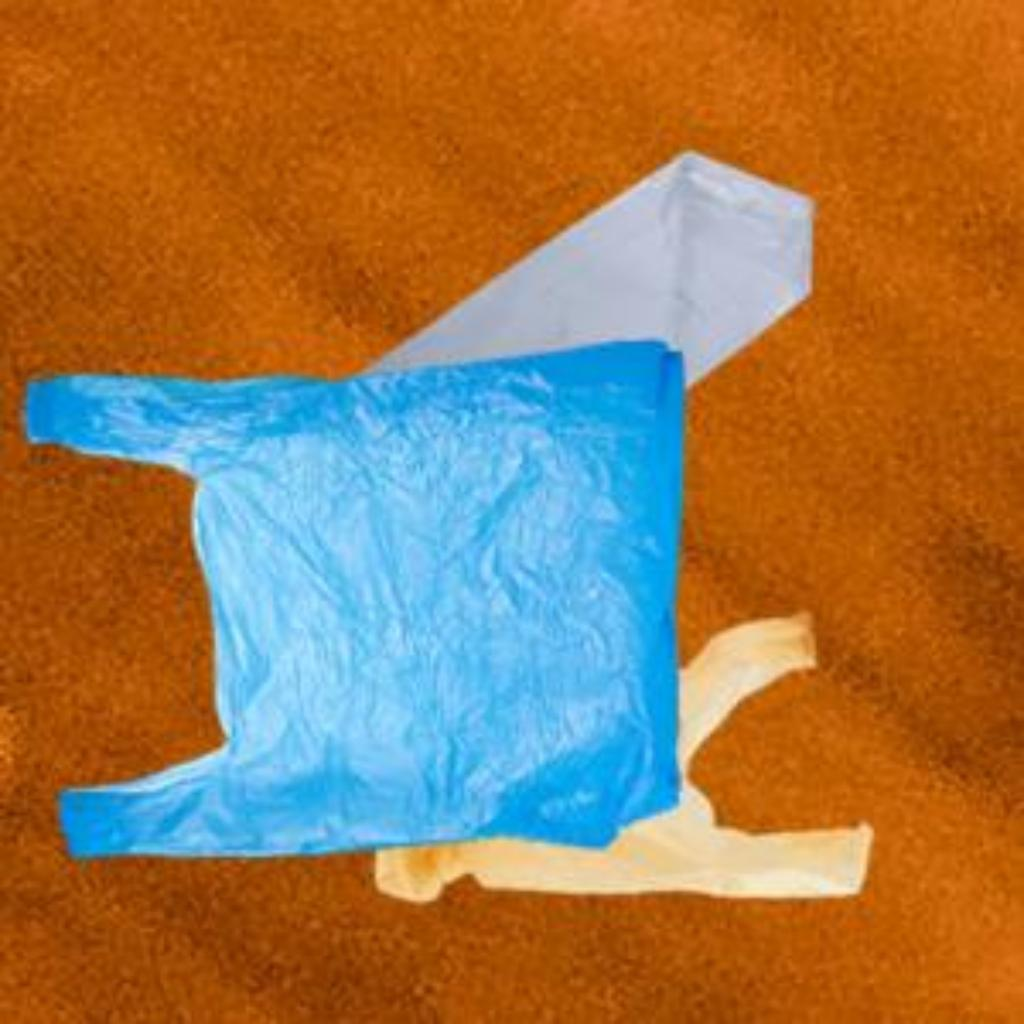garbage: (7, 350, 710, 886), (377, 608, 934, 915), (461, 160, 850, 386)
